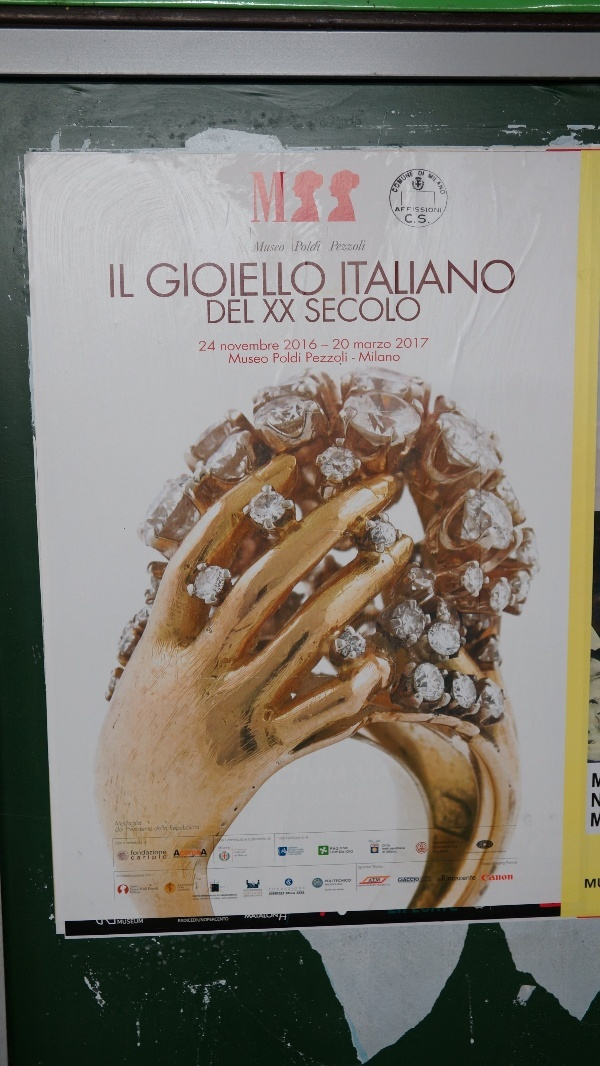text: (257, 167, 272, 233), (273, 167, 288, 233), (289, 167, 304, 233), (305, 167, 320, 233), (321, 167, 336, 233), (337, 167, 352, 233), (145, 252, 160, 317), (161, 252, 176, 317), (177, 252, 192, 317), (193, 252, 208, 317), (209, 252, 224, 317), (225, 252, 240, 317), (241, 252, 256, 317), (257, 252, 272, 317), (273, 252, 288, 317), (289, 252, 304, 317), (305, 252, 320, 317), (321, 252, 336, 317), (337, 252, 352, 317), (353, 252, 368, 317), (369, 252, 384, 317), (385, 252, 400, 317), (401, 252, 416, 317), (417, 252, 432, 317), (433, 252, 448, 317), (449, 252, 464, 317), (465, 252, 480, 317), (481, 252, 496, 317), (497, 252, 512, 317), (113, 258, 128, 308), (353, 167, 360, 233), (273, 297, 288, 327), (305, 295, 320, 324), (321, 295, 336, 324), (337, 295, 352, 324), (353, 295, 368, 324), (369, 295, 384, 324), (385, 295, 400, 324), (401, 295, 416, 324), (209, 298, 224, 326), (225, 298, 240, 326), (513, 252, 519, 317), (241, 298, 254, 326), (129, 258, 136, 308), (251, 167, 256, 233), (401, 169, 414, 194), (433, 172, 446, 196), (262, 297, 272, 327), (289, 336, 304, 353), (305, 336, 320, 353), (321, 336, 336, 353), (273, 349, 288, 366), (433, 840, 448, 856), (257, 239, 272, 254), (337, 239, 352, 254), (241, 352, 256, 367), (401, 337, 416, 352), (321, 350, 336, 365), (337, 350, 352, 365), (353, 350, 368, 365), (369, 350, 384, 365), (385, 350, 400, 365), (337, 336, 350, 353), (353, 239, 367, 254), (289, 297, 296, 327), (225, 339, 240, 353), (241, 339, 256, 353), (257, 339, 272, 353), (306, 350, 320, 365), (289, 349, 301, 366), (108, 258, 112, 308), (273, 239, 286, 254), (305, 240, 320, 253), (417, 337, 430, 352), (130, 883, 144, 896), (145, 883, 159, 896), (257, 352, 269, 367), (417, 213, 431, 225), (369, 340, 384, 351), (177, 847, 192, 858), (193, 847, 208, 858), (289, 846, 304, 857), (385, 844, 400, 855), (497, 873, 513, 883), (354, 340, 368, 351), (230, 352, 240, 367), (177, 824, 192, 834), (481, 873, 496, 883), (449, 840, 458, 856), (178, 883, 192, 893), (584, 877, 592, 894), (257, 913, 272, 922), (273, 913, 288, 922), (405, 213, 416, 225), (244, 888, 256, 899), (199, 340, 208, 354), (427, 172, 432, 196), (129, 838, 144, 846), (145, 854, 160, 862), (129, 918, 144, 926), (193, 916, 208, 924), (209, 916, 224, 924), (324, 883, 336, 893), (449, 875, 464, 883), (417, 295, 421, 324), (418, 170, 432, 178), (178, 916, 192, 924), (401, 207, 416, 214), (417, 207, 432, 214), (129, 826, 144, 833), (145, 849, 160, 856), (193, 894, 208, 901), (209, 894, 224, 901), (225, 837, 240, 844), (241, 837, 256, 844), (481, 861, 496, 868), (497, 861, 512, 868), (465, 850, 480, 857), (481, 850, 496, 857), (296, 240, 304, 253), (129, 820, 142, 828), (131, 854, 144, 862), (396, 169, 400, 194), (245, 913, 256, 922), (209, 340, 216, 354), (273, 339, 280, 353), (257, 837, 271, 844), (116, 820, 128, 828), (116, 826, 128, 834), (116, 838, 128, 846), (131, 849, 144, 856), (225, 894, 238, 901), (129, 873, 144, 879), (289, 835, 304, 841), (401, 877, 416, 883), (117, 918, 128, 926), (465, 875, 476, 883), (289, 887, 305, 892), (289, 892, 305, 897), (337, 850, 353, 855), (385, 340, 392, 351), (395, 337, 400, 352), (273, 887, 288, 892), (273, 892, 288, 897), (337, 879, 352, 884), (193, 824, 200, 834), (337, 883, 344, 893), (370, 878, 384, 883), (497, 850, 507, 857), (284, 336, 288, 353), (593, 877, 597, 894), (117, 873, 128, 879), (433, 207, 442, 214), (241, 850, 248, 859), (332, 239, 336, 254), (170, 824, 176, 834), (369, 866, 384, 870), (220, 339, 224, 353), (145, 826, 153, 833), (161, 825, 168, 833), (257, 888, 262, 899), (325, 879, 336, 884), (337, 847, 348, 852), (401, 844, 406, 855), (234, 850, 240, 859), (279, 835, 288, 841), (217, 837, 224, 844), (161, 854, 167, 862), (442, 875, 448, 883), (161, 849, 167, 856), (145, 873, 152, 879), (155, 825, 160, 833), (358, 866, 368, 870), (513, 861, 518, 868), (225, 916, 229, 924), (218, 846, 224, 851), (330, 847, 336, 852), (330, 850, 336, 855), (396, 207, 400, 214), (207, 298, 208, 326), (225, 846, 230, 851), (305, 835, 309, 841), (382, 844, 384, 855), (417, 877, 420, 883), (145, 838, 147, 846), (269, 887, 272, 892), (269, 892, 272, 897), (126, 826, 128, 833), (321, 240, 322, 253), (398, 877, 400, 883), (193, 883, 194, 893), (463, 850, 464, 857)
